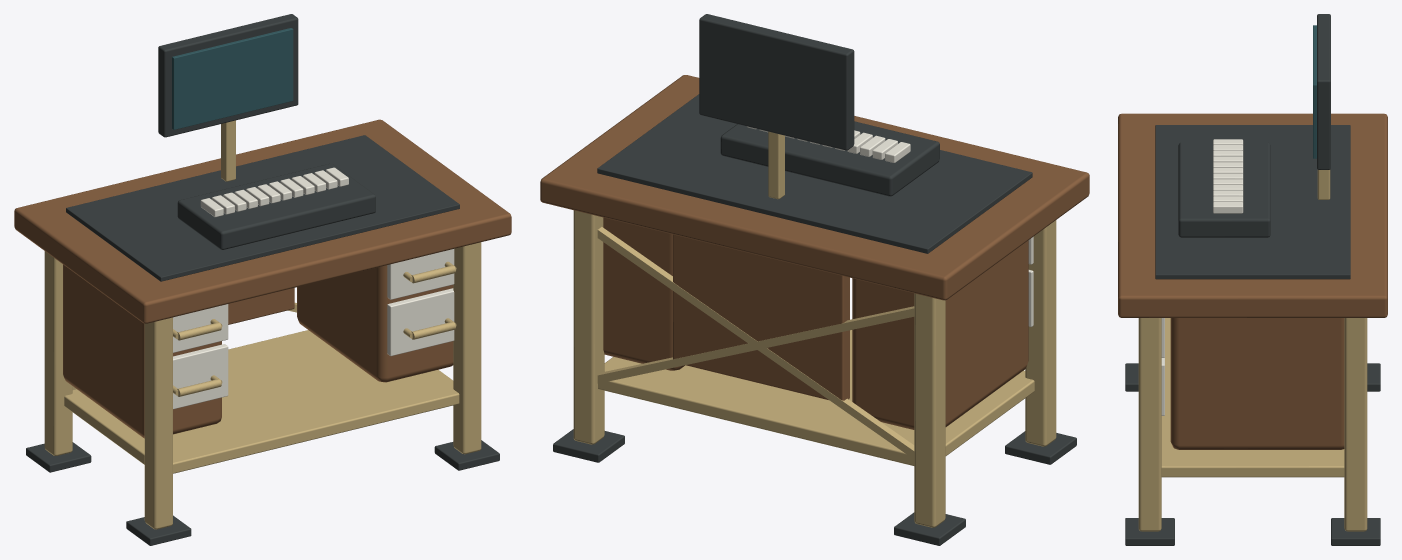
The model's file is city-courthouse-and-records-office-city-courthouse-and-4c60ba02__30959.glb.
3 renders of one model, left to right at view 1: azimuth 30°, elevation 25°; view 2: azimuth 150°, elevation 25°; view 3: azimuth 270°, elevation 25°, orthographic. The views are drawn at different scales.
Parts seen in each view (by area): view 1: city-courthouse-and-records-office-court-reporter-station; view 2: city-courthouse-and-records-office-court-reporter-station; view 3: city-courthouse-and-records-office-court-reporter-station.
Part boxes in pixels (<box>): city-courthouse-and-records-office-court-reporter-station: <box>14,14,511,545</box>; city-courthouse-and-records-office-court-reporter-station: <box>540,14,1089,545</box>; city-courthouse-and-records-office-court-reporter-station: <box>1118,14,1387,545</box>.
Bounding box in the file's own units: 1.23 × 1.28 × 0.76.
